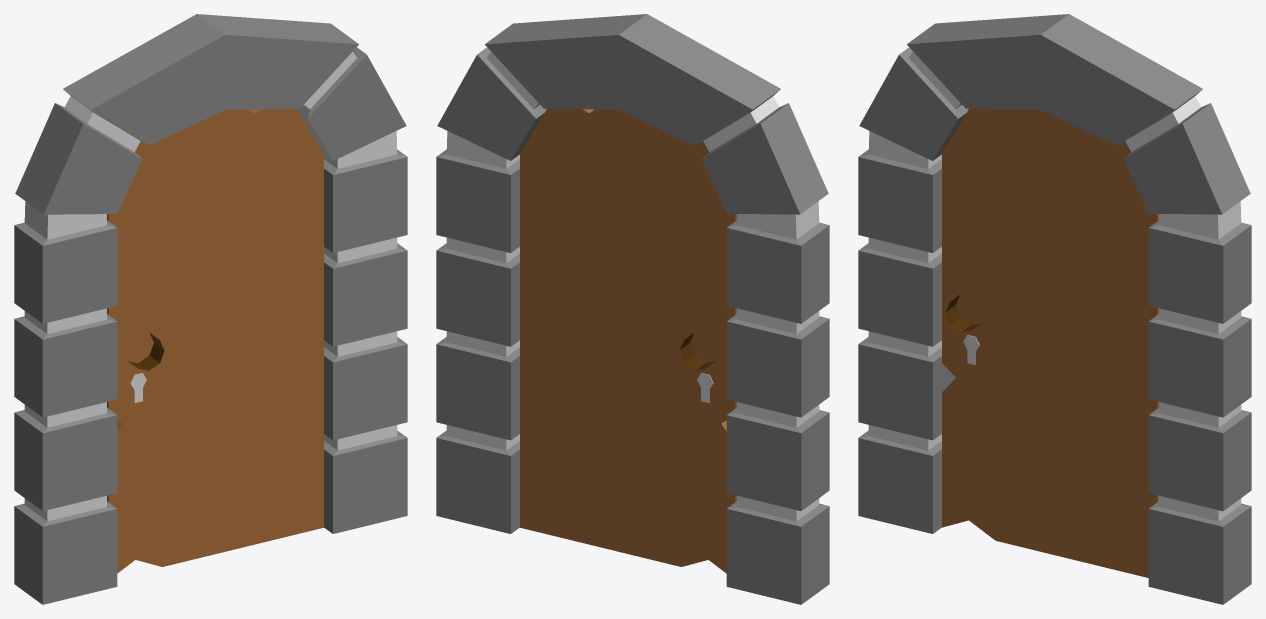
The model's file is Vrata.fbx.
The picture shows the model from 3 angles, left to right: view 1: azimuth 30°, elevation 25°; view 2: azimuth 150°, elevation 25°; view 3: azimuth 330°, elevation 25°; orthographic projection.
Visible parts, largest first — view 1: Vrata okvir 1, Vrata trup 1; view 2: Vrata okvir 1, Vrata trup 1; view 3: Vrata okvir 1, Vrata trup 1.
Boxes of the visible parts, box(x1,y1,x2,y2) form: Vrata okvir 1: box(14, 14, 407, 604); Vrata trup 1: box(107, 108, 323, 573); Vrata okvir 1: box(436, 14, 829, 604); Vrata trup 1: box(520, 108, 736, 573); Vrata okvir 1: box(858, 14, 1251, 604); Vrata trup 1: box(942, 108, 1158, 577).
Bounding box in the file's own units: 127 × 175 × 19.09.
